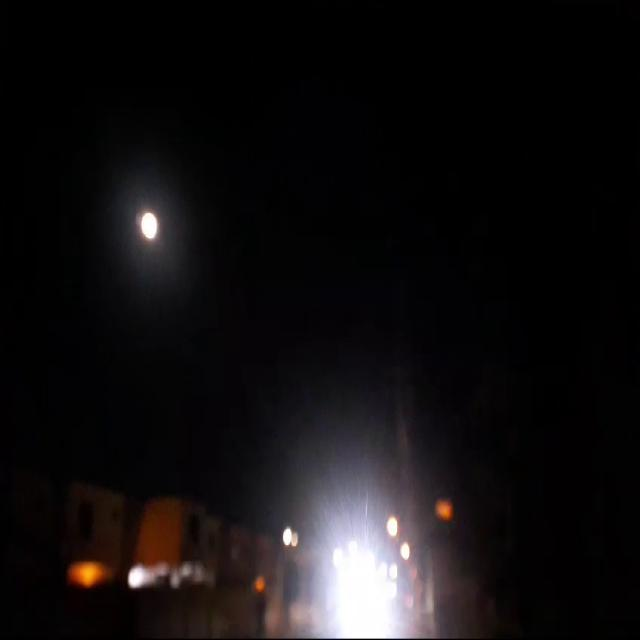moon: (142, 192, 164, 228)
